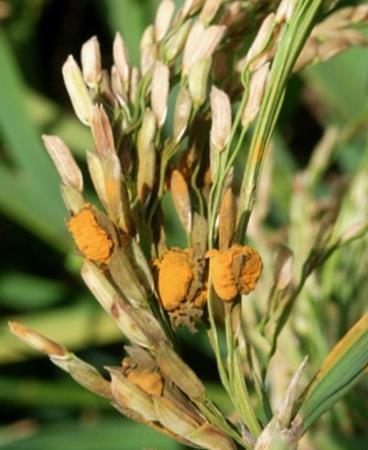False Smut: (156, 248, 218, 332), (64, 204, 131, 271), (210, 239, 269, 310), (105, 354, 180, 405)
